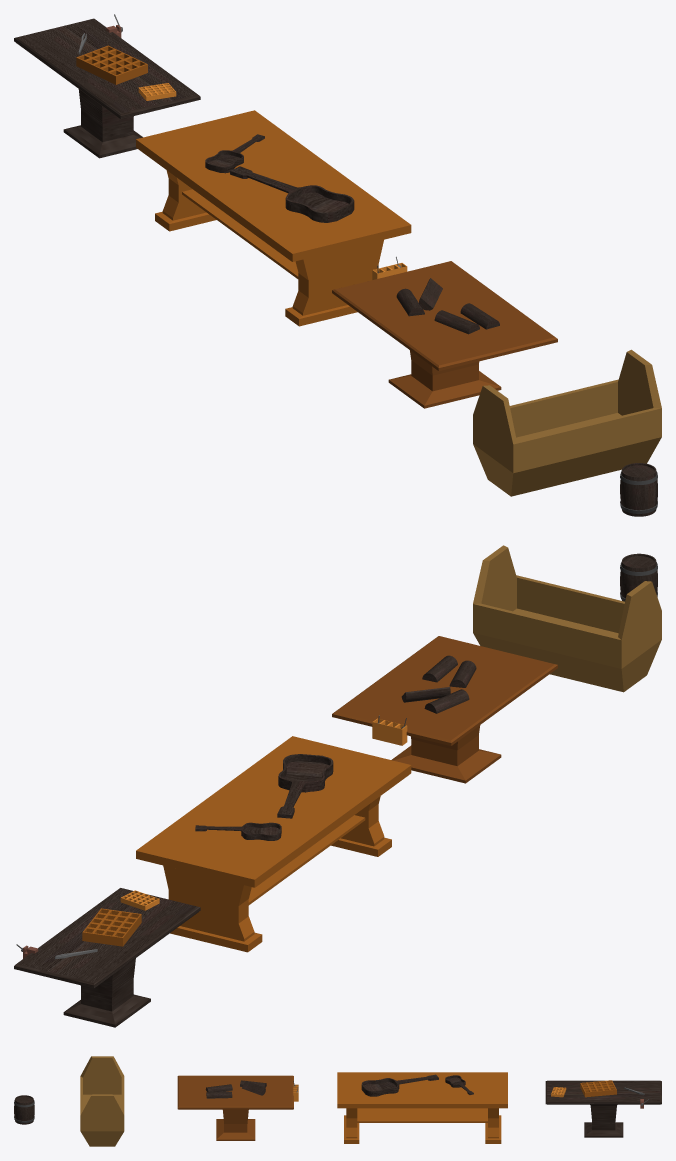
File: Internofalegnameria.fbx
The picture shows the model from 3 angles, top to bottom: view 1: azimuth 30°, elevation 25°; view 2: azimuth 150°, elevation 25°; view 3: azimuth 270°, elevation 25°; orthographic projection. The views are drawn at different scales.
Visible parts, largest first — view 1: Cube, Cube.008, Cube.006, Cube.001, Plane, Cube.004, Cylinder.009, Plane.001; view 2: Cube, Cube.008, Cube.006, Cube.001, Plane, Cube.004, Cylinder.009, Plane.001, Cube.007; view 3: Cube, Cube.006, Cube.008, Cube.001, Plane, Cube.004, Cylinder.009, Plane.001, Cylinder.007, Cylinder.006, Cylinder.005.
Part boxes in pixels (bbox=[...]): Cube: bbox=[136, 110, 411, 326]; Cube.008: bbox=[473, 349, 661, 496]; Cube.006: bbox=[332, 261, 557, 408]; Cube.001: bbox=[14, 18, 200, 158]; Plane: bbox=[230, 166, 354, 222]; Cube.004: bbox=[76, 45, 147, 84]; Cylinder.009: bbox=[620, 463, 657, 516]; Plane.001: bbox=[205, 134, 264, 173]; Cube: bbox=[136, 736, 411, 952]; Cube.008: bbox=[473, 545, 661, 692]; Cube.006: bbox=[332, 636, 557, 783]; Cube.001: bbox=[14, 888, 200, 1027]; Plane: bbox=[277, 754, 333, 818]; Cube.004: bbox=[82, 908, 141, 946]; Cylinder.009: bbox=[620, 553, 657, 601]; Plane.001: bbox=[195, 822, 281, 840]; Cube.007: bbox=[372, 718, 407, 745]; Cube: bbox=[337, 1072, 507, 1143]; Cube.006: bbox=[177, 1075, 293, 1140]; Cube.008: bbox=[80, 1056, 124, 1146]; Cube.001: bbox=[545, 1080, 661, 1137]; Plane: bbox=[361, 1074, 438, 1096]; Cube.004: bbox=[580, 1080, 616, 1097]; Cylinder.009: bbox=[14, 1095, 34, 1124]; Plane.001: bbox=[445, 1075, 473, 1094]; Cylinder.007: bbox=[242, 1081, 265, 1095]; Cylinder.006: bbox=[206, 1091, 232, 1098]; Cylinder.005: bbox=[205, 1084, 232, 1092].
Size of the model in its own units: 998 by 655 by 6911.
